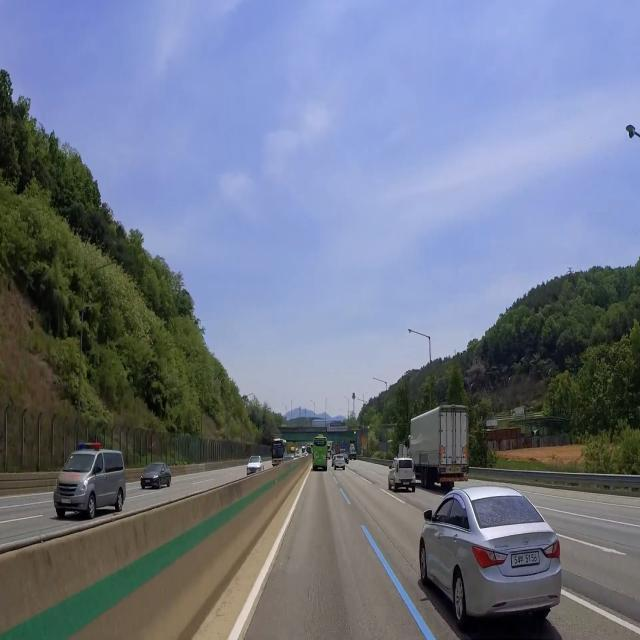car: (510, 549, 542, 568), (59, 495, 74, 509), (450, 464, 461, 477), (401, 479, 412, 488)
